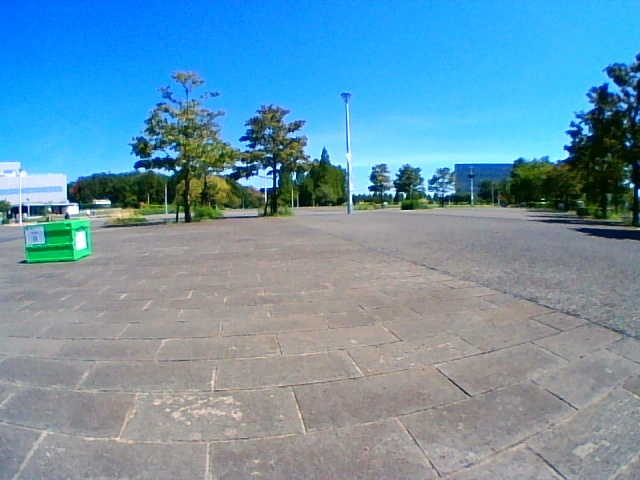green_box: (25, 220, 92, 264)
tag: (26, 227, 42, 243)
